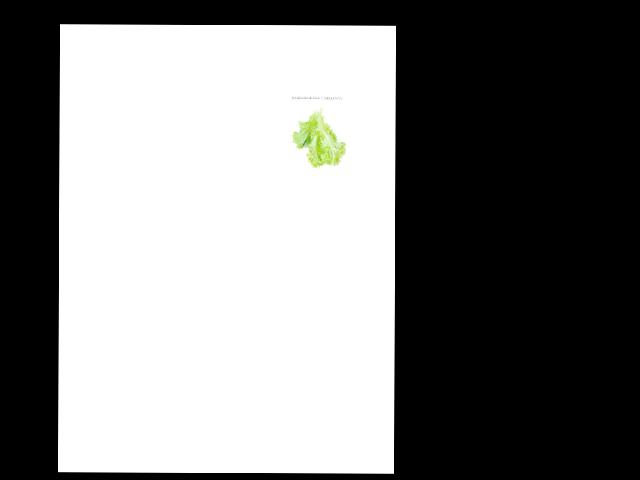lettuce: (290, 104, 345, 169)
